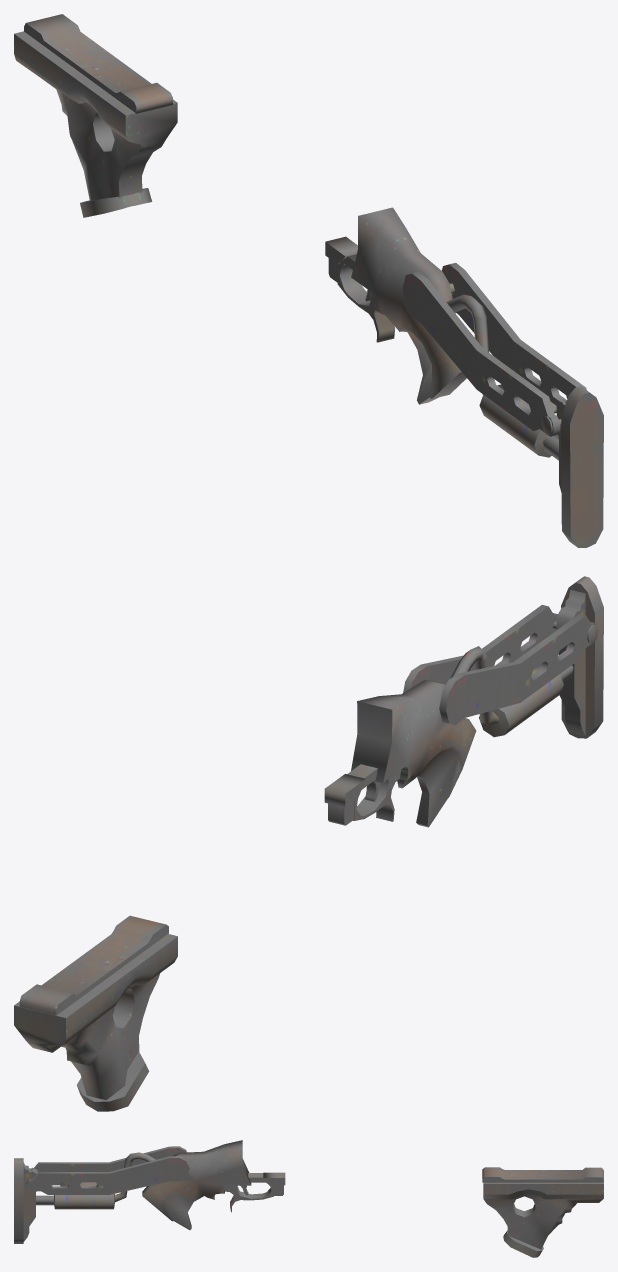
File: grip3.obj
3 views of the same model, one above another, from view 1: azimuth 30°, elevation 25°; view 2: azimuth 150°, elevation 25°; view 3: azimuth 270°, elevation 25° (orthographic). The views are drawn at different scales.
Visible parts, largest first — view 1: grip3; view 2: grip3; view 3: grip3.
Boxes of the visible parts, x1,y1,x2,y2 form: grip3: [14, 14, 603, 547]; grip3: [14, 576, 603, 1111]; grip3: [14, 1140, 603, 1257].
Bounding box in the file's own units: 5.2 × 19.48 × 94.63.
